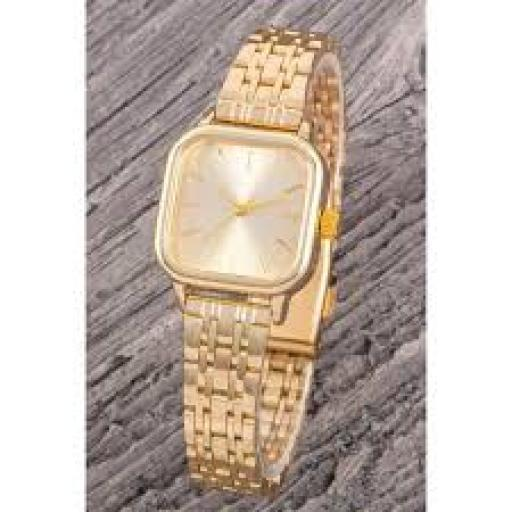KolSaati: (106, 2, 378, 504)
